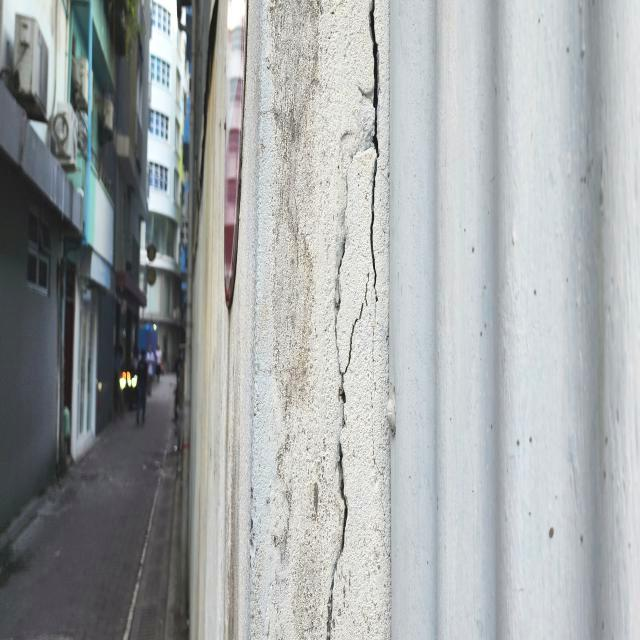SurfaceCrack: (0, 2, 159, 633), (297, 0, 441, 640)
